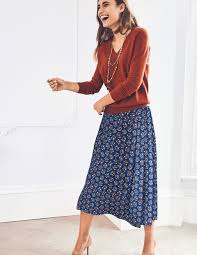C_skirt: (59, 98, 177, 227)
